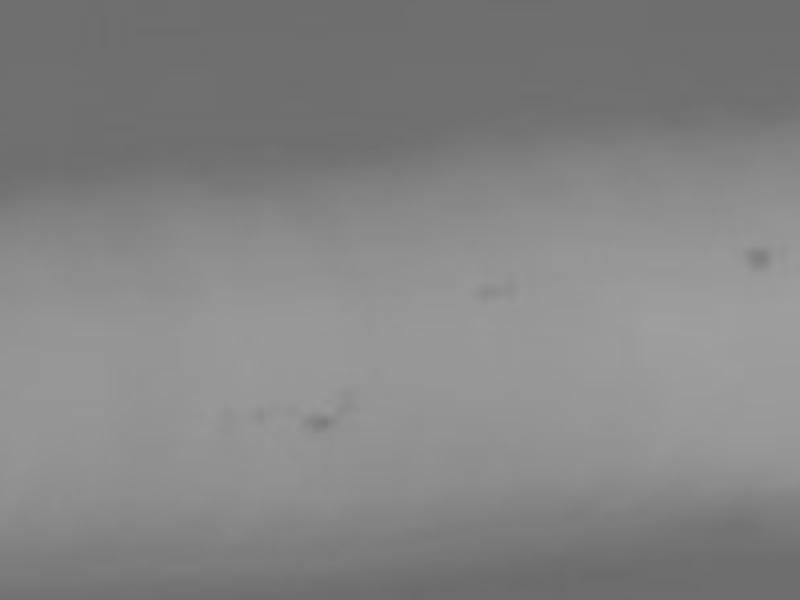defect: (332, 386, 358, 415), (745, 245, 773, 270), (498, 272, 523, 300), (308, 415, 332, 431), (477, 280, 497, 299)
